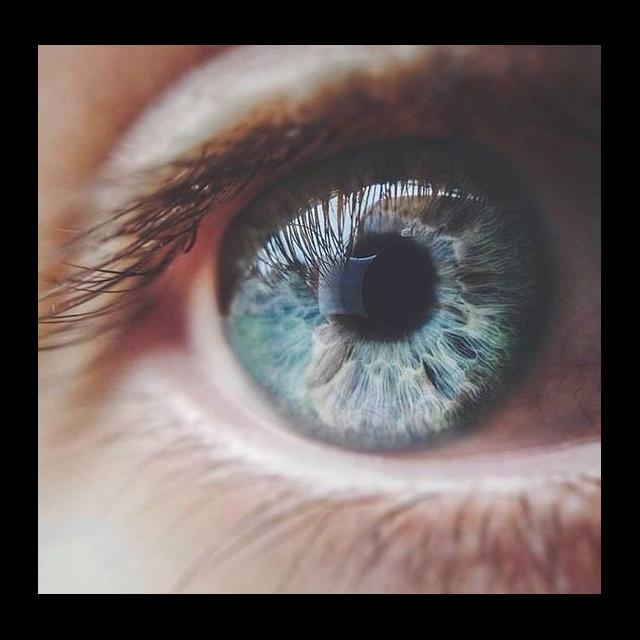eye: (163, 130, 602, 482)
iris: (215, 136, 562, 461)
